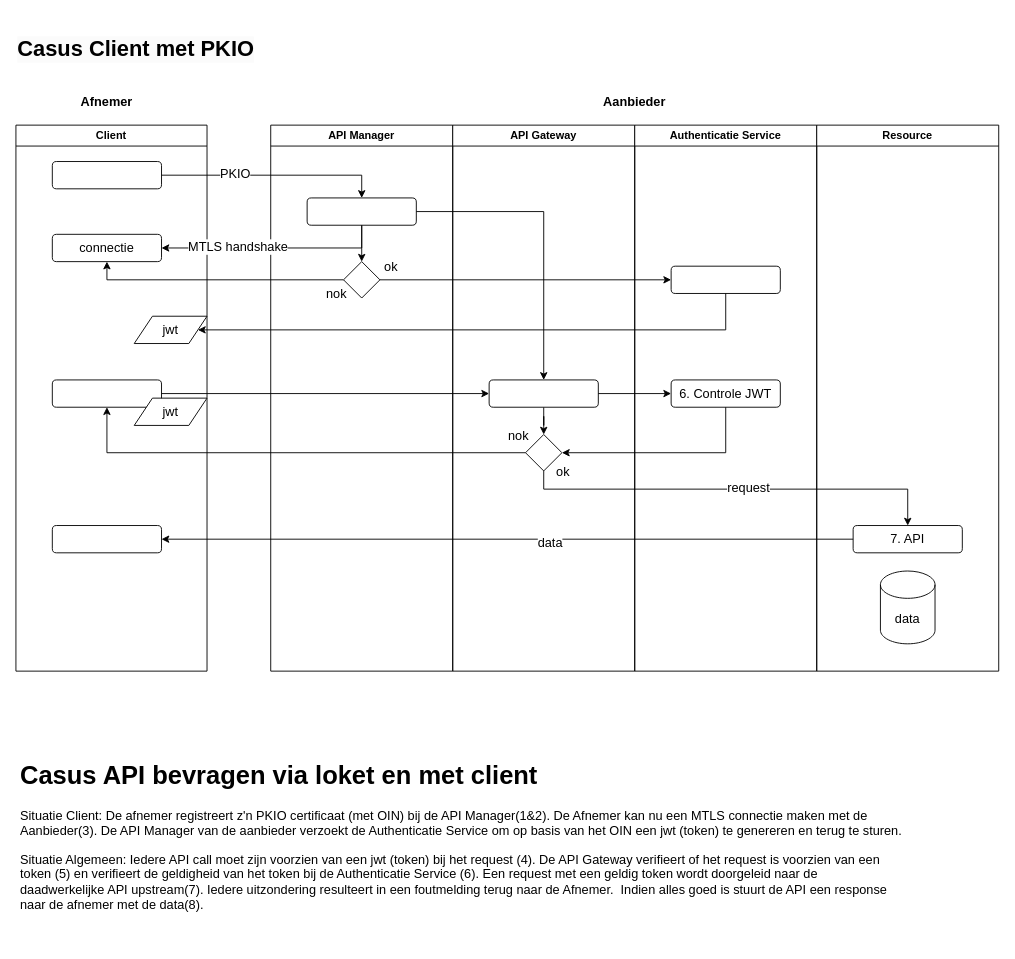
The diagram is 1015 pixels wide and 959 high, and some of its shapes have lost their labels. The box of each missing label's shape, as (x1, y1, x2, y2) in pixels:
1. start: (51, 161, 162, 189)
2. registreren: (306, 197, 416, 225)
3. Genereren JWT: (670, 265, 780, 293)
4. Request: (51, 379, 162, 407)
5. Request check: (488, 379, 598, 407)
8. Response: (51, 525, 162, 553)
